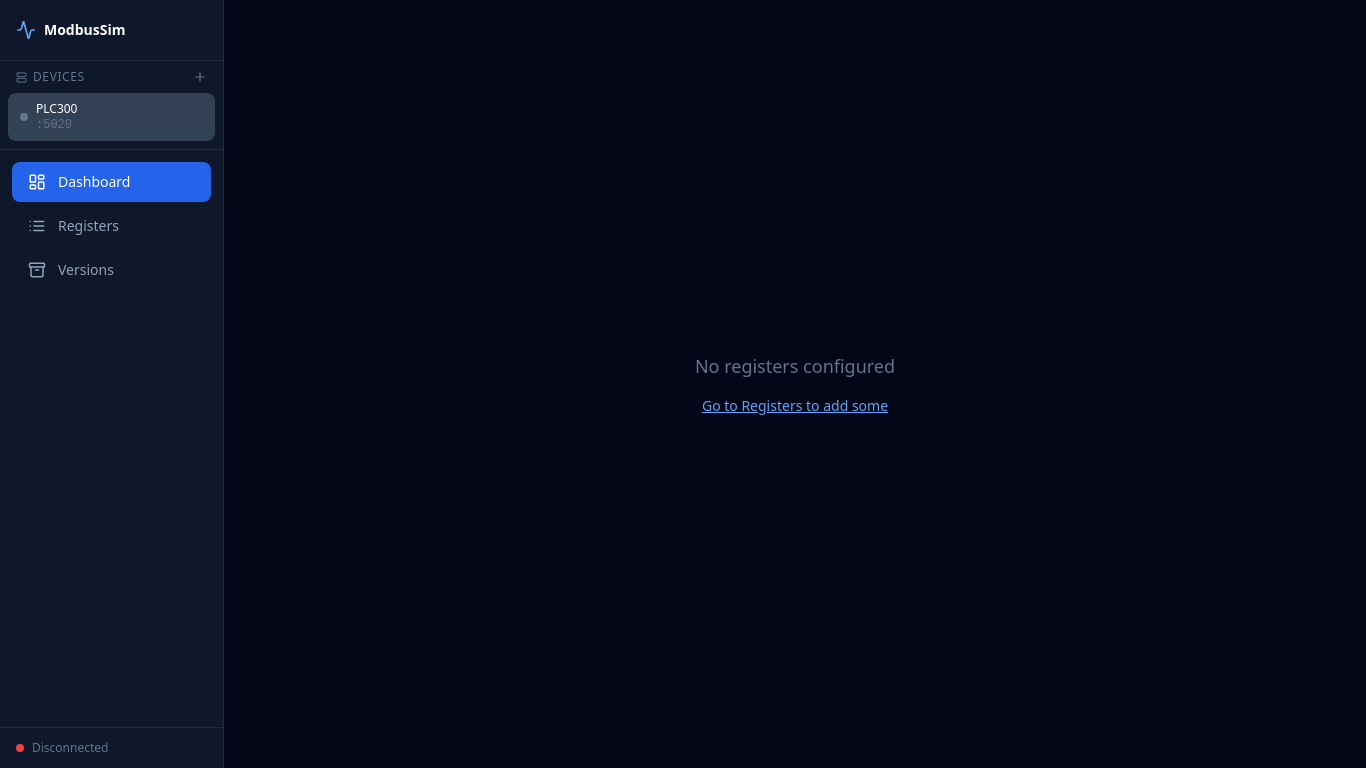
Test: AppShell — Add Device modal › opens the Add Device modal when + button is clicked
The image size is (1366, 768).
Expected: the text "PLC300" is shown, top-left (36, 100), bottom-right (78, 117)
Click the button titled "Add Device" at x=200, y=77, box top-left (193, 70), bottom-right (207, 84)
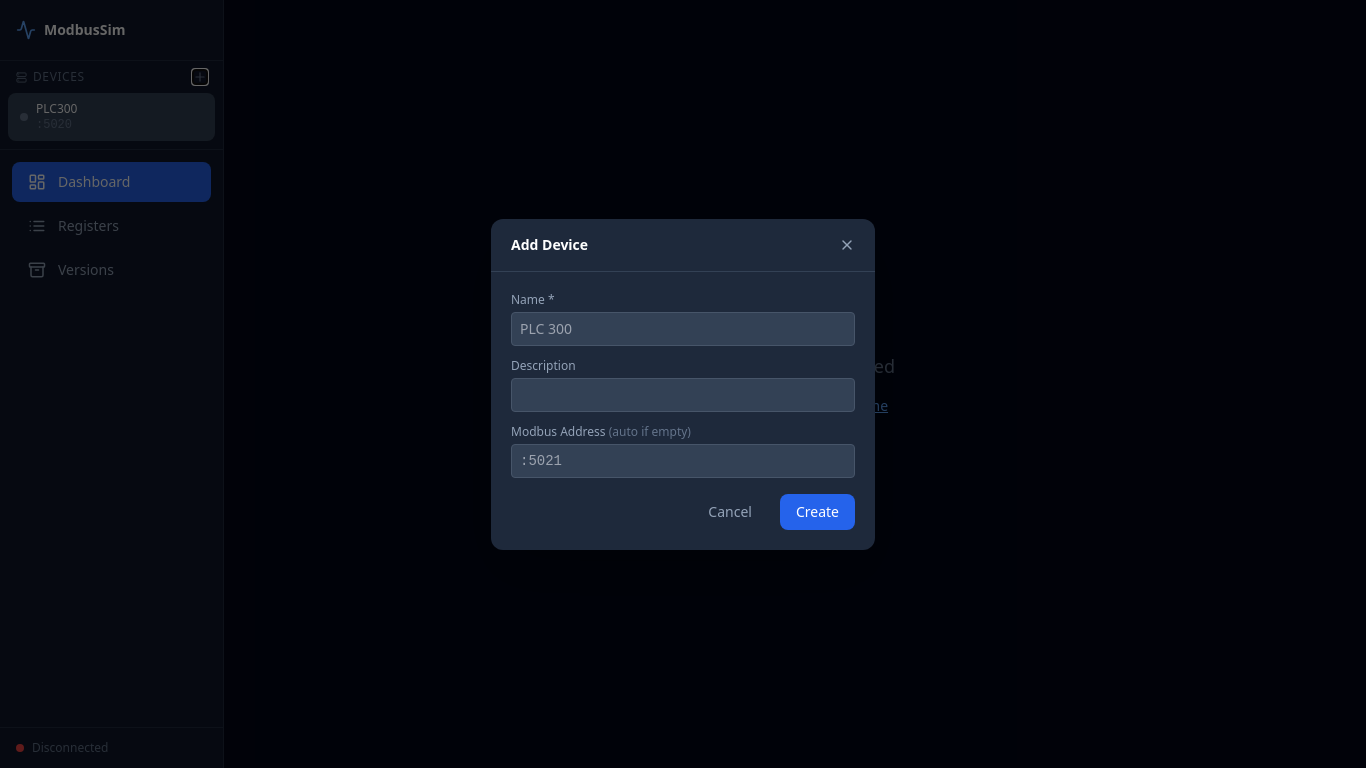
Result: the heading "Add Device" is shown at top-left (511, 234), bottom-right (588, 254)
